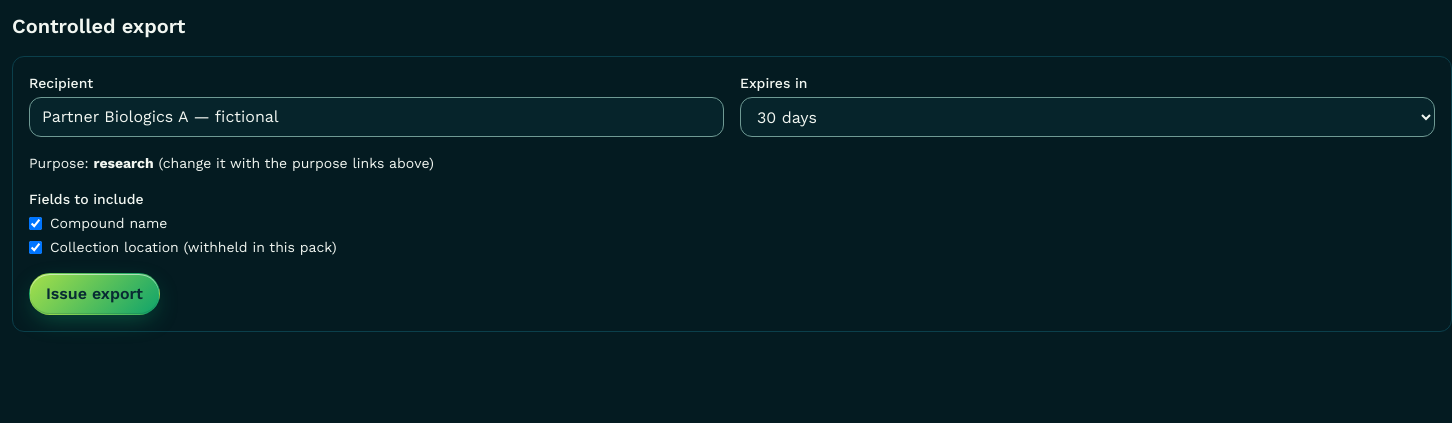
Scenario: ExportForm › renders the backend persona_forbidden with who may act
Click the button "Issue export" at (94, 294), box [29,273,160,315]
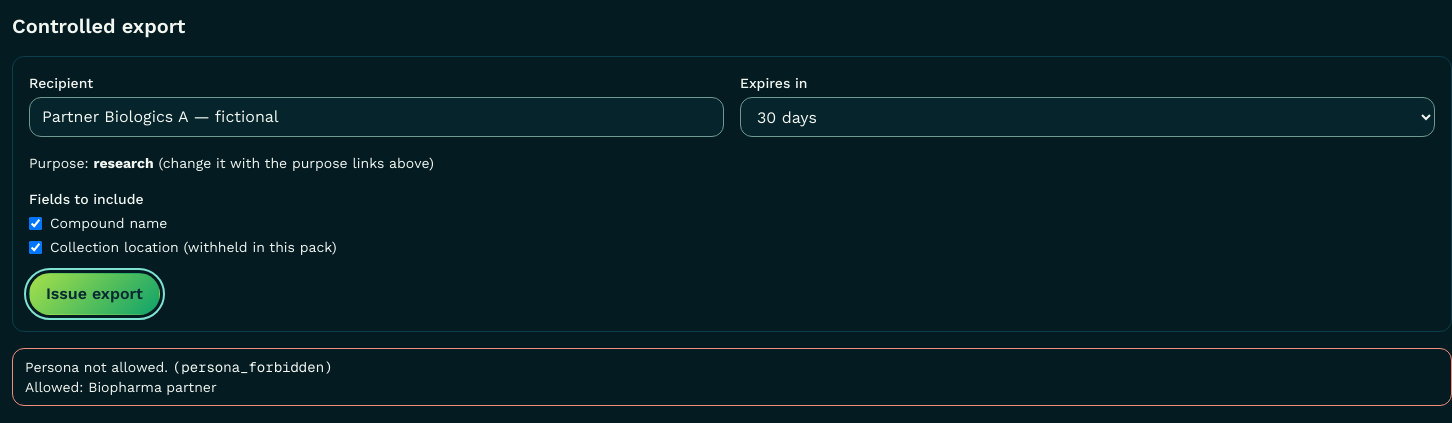
Expected: the message shows "Biopharma partner", [88,379,217,395]
